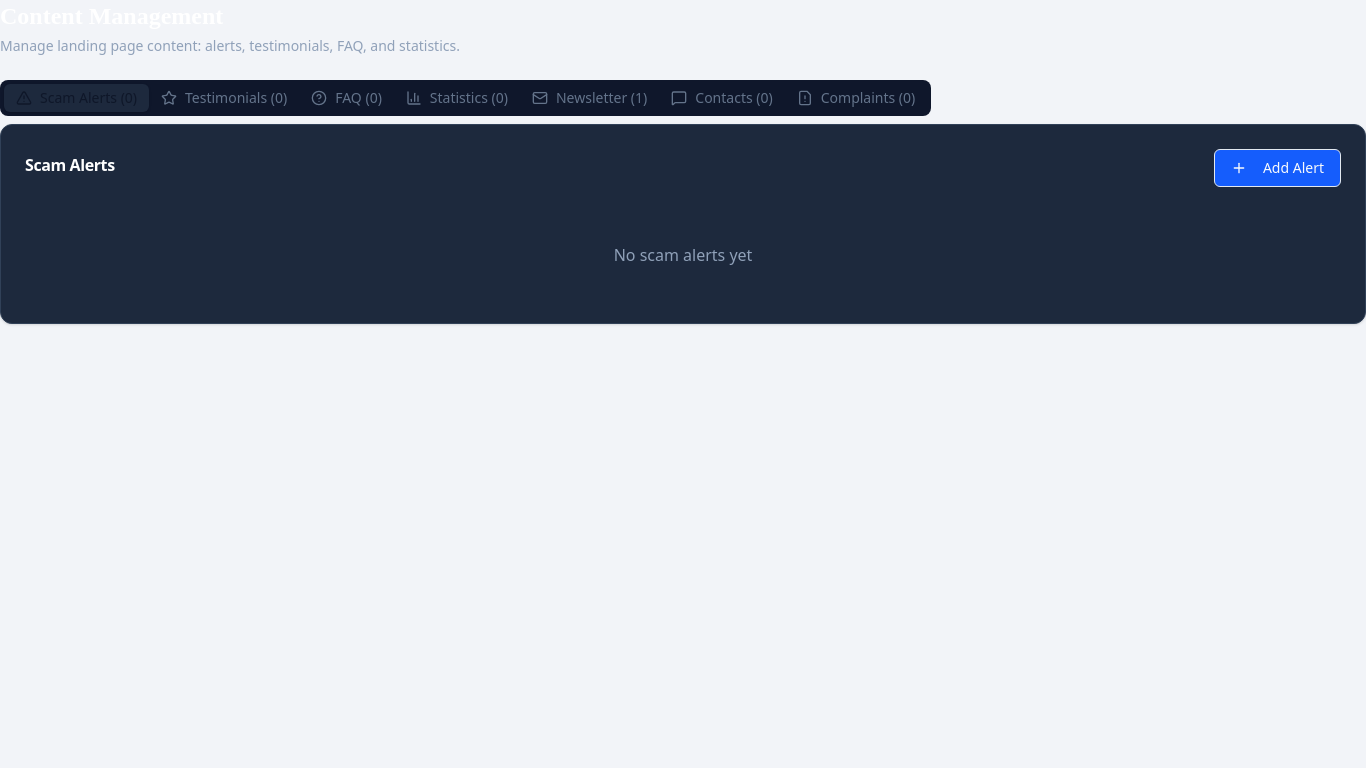
Test: ContentManagement — newsletter bulk-delete flow › clicking 'Delete selected' opens the confirmation dialog
Step 1. Click the tab with test id "content-tab-newsletter" → (590, 98), box x1=520 y1=84 x2=659 y2=112
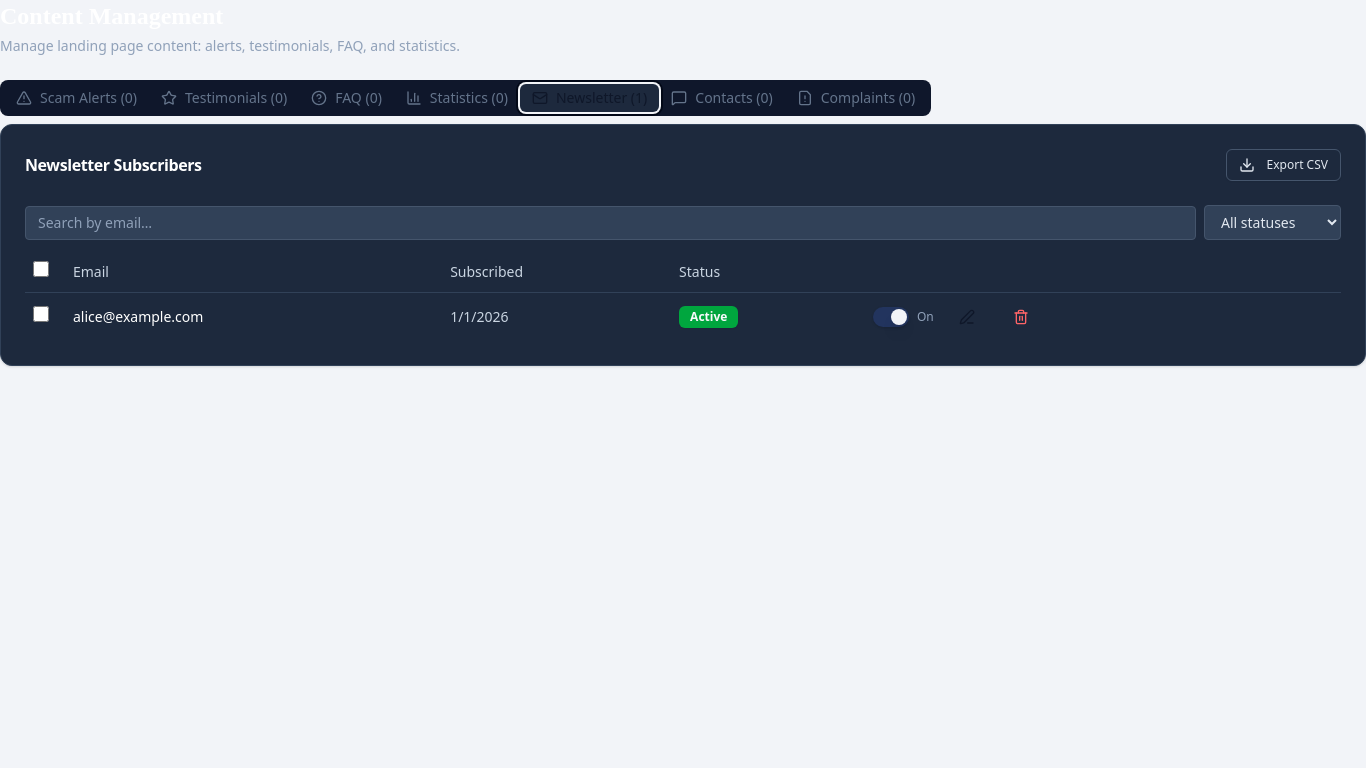
Step 2. Click the checkbox with test id "checkbox-newsletter-1" → (41, 314), box x1=33 y1=306 x2=49 y2=322
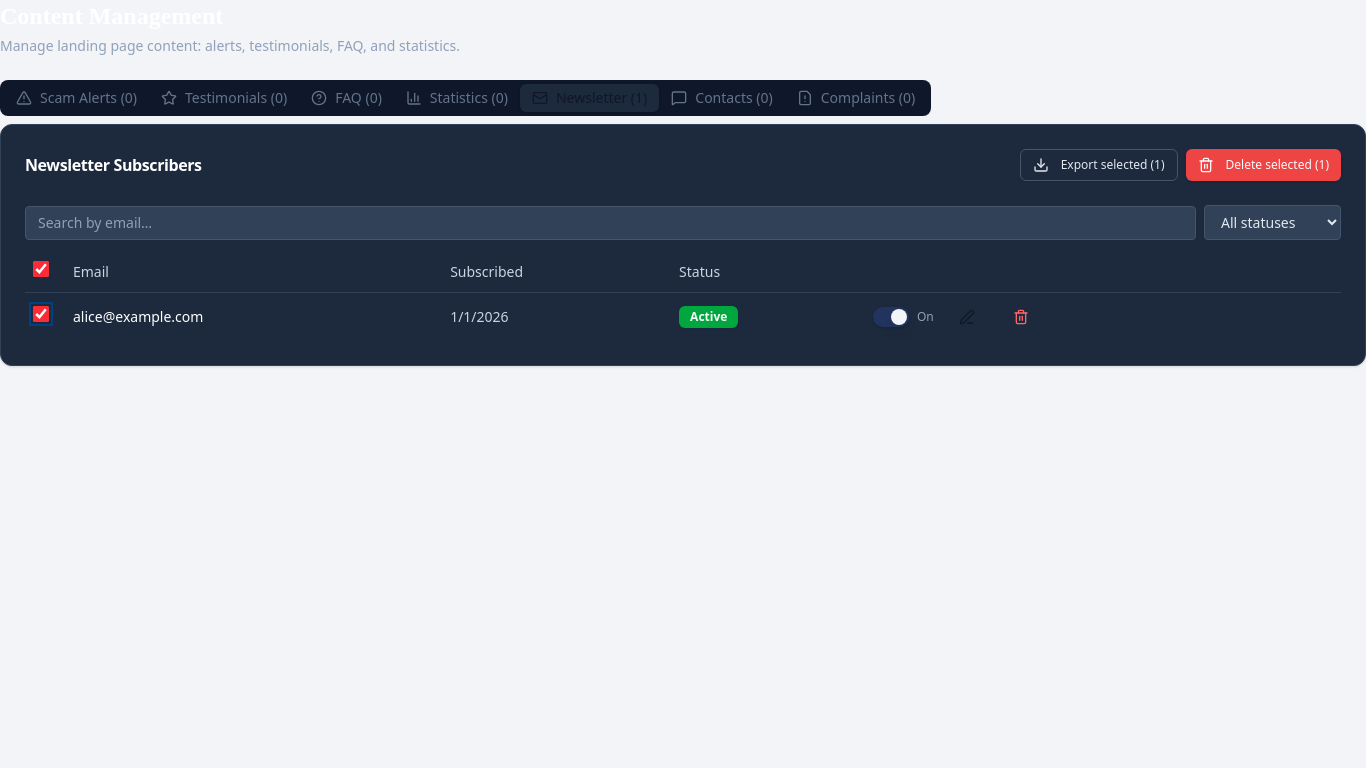
Step 3. Click the button with test id "button-bulk-delete-newsletter" → (1263, 165), box x1=1186 y1=149 x2=1341 y2=181
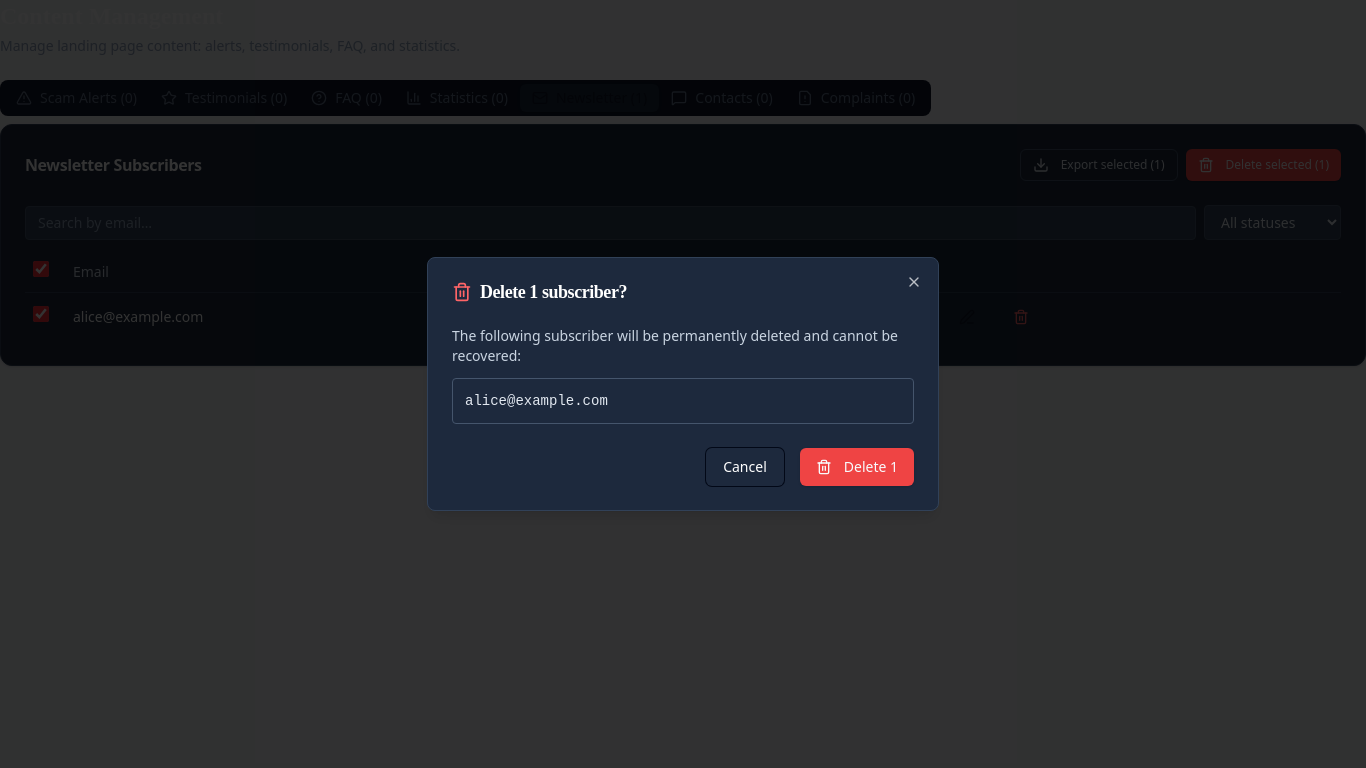
Result: the list item with test id "bulk-delete-email-1" reads "alice@example.com" at x1=465 y1=393 x2=608 y2=409
